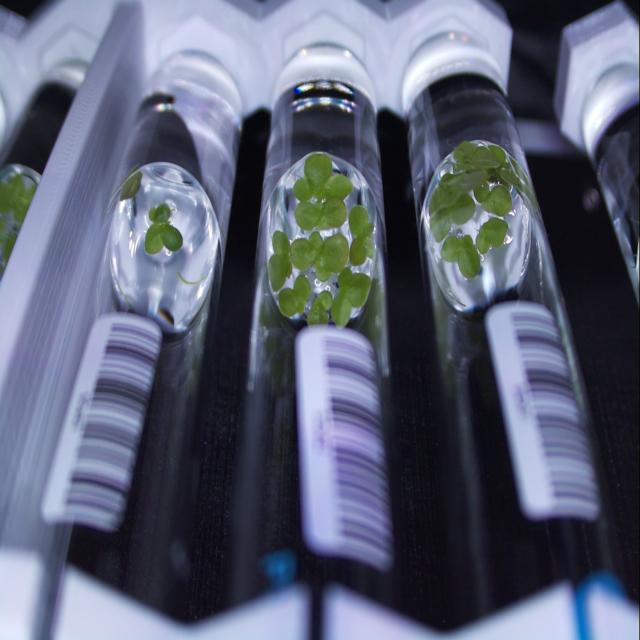Lemna-Gibba: (429, 170, 488, 242), (290, 230, 349, 282), (294, 153, 352, 202), (330, 267, 371, 327), (145, 203, 182, 254), (295, 197, 348, 230), (441, 235, 480, 279), (349, 205, 375, 265), (454, 142, 506, 172), (268, 230, 291, 292), (278, 275, 310, 317), (476, 217, 509, 254), (482, 185, 512, 217), (308, 290, 332, 325), (120, 172, 142, 199), (496, 167, 522, 188), (474, 182, 490, 203), (489, 170, 500, 183)
